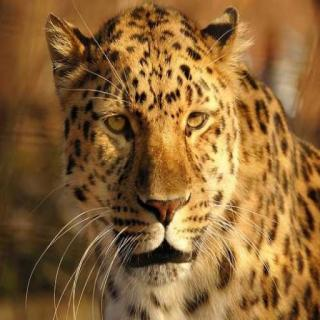Leopard: (27, 0, 320, 319)
